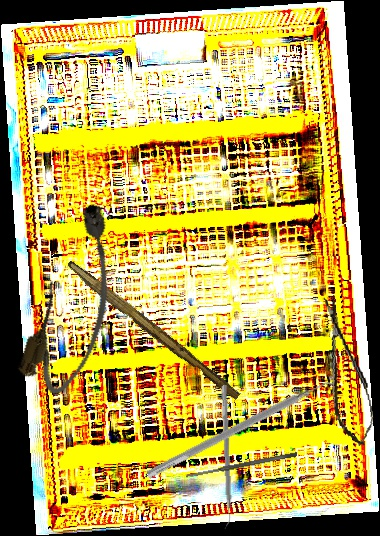Cannula: (13, 197, 140, 402)
Micro Scissor: (314, 291, 379, 450)
Scalpel Handle: (62, 259, 244, 402)
Spatula Surgical: (145, 373, 339, 487), (185, 451, 298, 479), (214, 385, 235, 529)
